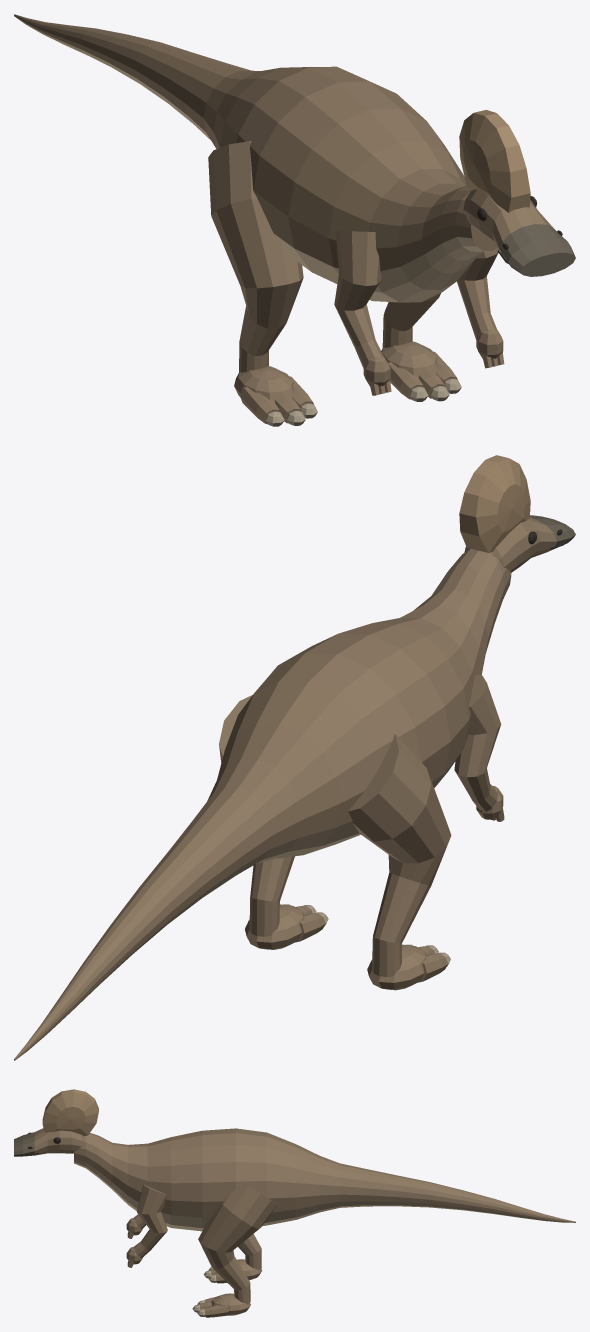
The picture shows the model from 3 angles, top to bottom: view 1: azimuth 30°, elevation 25°; view 2: azimuth 150°, elevation 25°; view 3: azimuth 270°, elevation 25°; orthographic projection. The views are drawn at different scales.
Parts seen in each view (by area): view 1: axial-torso-neck-tail, hindlimb-left, forelimb-left, rounded-helmet-crest, head-and-broad-bill, hindlimb-right, forelimb-right, blunt-toe-nails; view 2: axial-torso-neck-tail, hindlimb-left, rounded-helmet-crest, hindlimb-right, forelimb-left, head-and-broad-bill; view 3: axial-torso-neck-tail, hindlimb-right, rounded-helmet-crest, forelimb-right, head-and-broad-bill, hindlimb-left, forelimb-left.
Boxes of the visible parts, x1,y1,x2,y2 form: axial-torso-neck-tail: (14, 14, 497, 302); hindlimb-left: (208, 141, 313, 424); forelimb-left: (334, 231, 391, 395); rounded-helmet-crest: (459, 110, 530, 212); head-and-broad-bill: (463, 189, 575, 276); hindlimb-right: (381, 293, 457, 399); forelimb-right: (457, 247, 504, 368); blunt-toe-nails: (265, 378, 461, 426); axial-torso-neck-tail: (14, 549, 511, 1060); hindlimb-left: (348, 734, 451, 990); rounded-helmet-crest: (459, 455, 530, 552); hindlimb-right: (219, 695, 325, 949); forelimb-left: (454, 675, 504, 821); head-and-broad-bill: (464, 515, 575, 572); axial-torso-neck-tail: (74, 1128, 575, 1231); hindlimb-right: (198, 1180, 277, 1317); rounded-helmet-crest: (42, 1089, 98, 1136); forelimb-right: (126, 1184, 167, 1267); head-and-broad-bill: (14, 1128, 84, 1156); hindlimb-left: (211, 1234, 262, 1283); forelimb-left: (126, 1214, 145, 1238).
Size of the model in its own units: 2.27 by 4.04 by 10.
